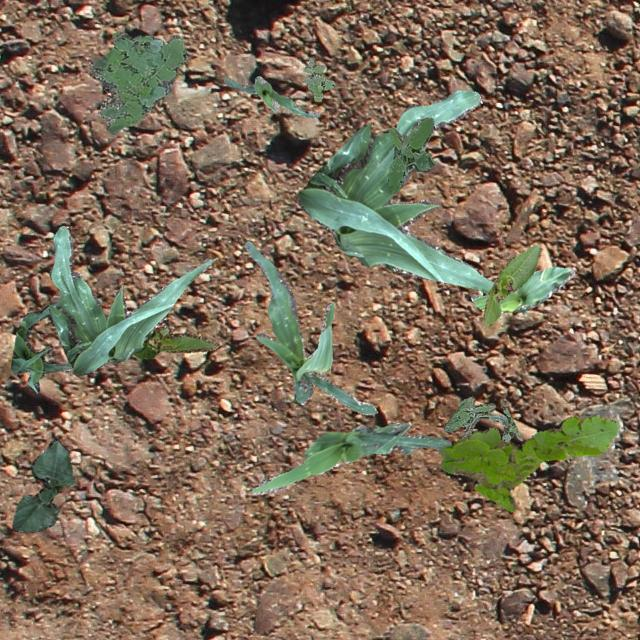crop: (296, 89, 492, 294), (48, 224, 216, 374), (244, 240, 376, 413), (250, 422, 450, 494), (9, 299, 72, 392), (12, 439, 74, 532), (469, 266, 574, 312), (482, 243, 540, 324), (222, 75, 318, 116), (132, 324, 218, 358)
weed: (438, 414, 618, 511), (89, 30, 184, 134), (386, 116, 434, 192), (442, 396, 522, 440), (302, 56, 332, 100)
